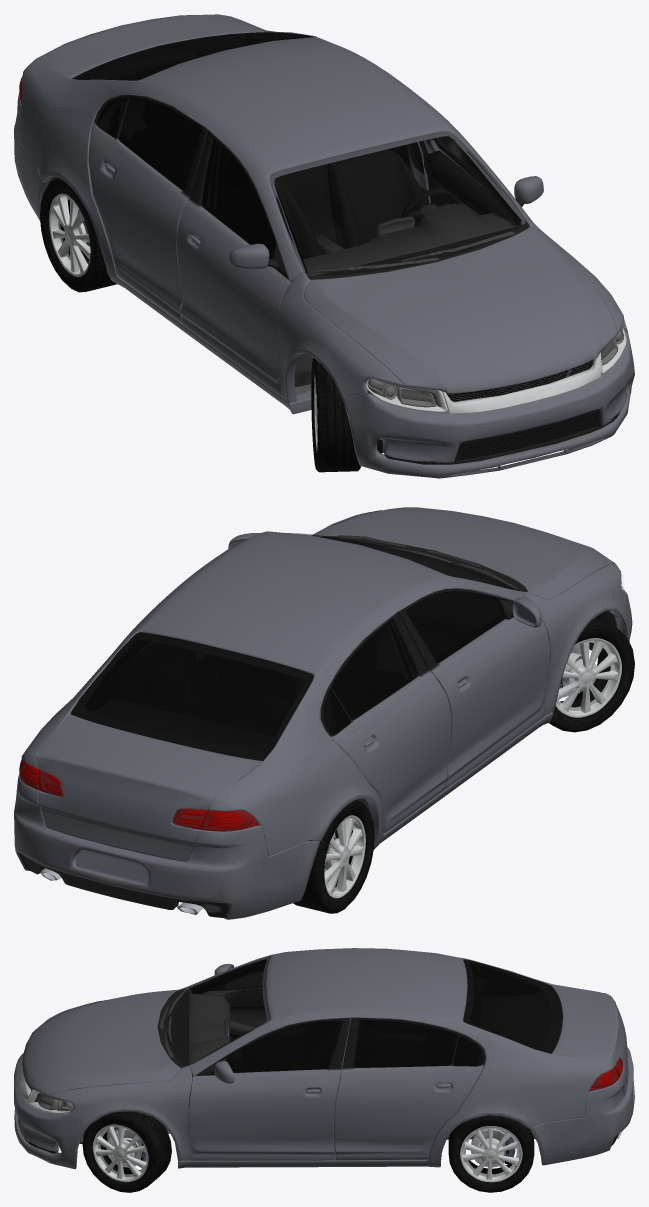
Rendered from car_drive.glb.
3 views of the same model, one above another, from view 1: azimuth 30°, elevation 25°; view 2: azimuth 150°, elevation 25°; view 3: azimuth 270°, elevation 25° (orthographic). The views are drawn at different scales.
Parts seen in each view (by area): view 1: sedan-unibody_65, hood_60, windshield_102, bumper-front_8, door-front-r_17, door-rear-r_23, fender-front-r_33, front-seat-backrest_39, dashboard_13, trunk_99, door-rear-window-glass-r_27, door-front-window-glass-r_19 (+20 smaller); view 2: sedan-unibody_65, glass-rear_42, trunk_99, bumper-rear_10, door-front-r_17, door-rear-r_23, hood_60, fender-front-r_33, door-rear-window-glass-r_27, door-front-window-glass-r_19, generic-wheel.001_126, generic-tire-low.001_125 (+8 smaller); view 3: sedan-unibody_65, door-front-l_16, door-rear-l_22, hood_60, windshield_102, glass-rear_42, fender-front-l_32, bumper-rear_10, trunk_99, door-rear-window-glass-l_26, door-front-window-glass-l_18, bumper-front_8 (+14 smaller).
Boxes of the visible parts, bbox=[...] form: sedan-unibody_65: bbox=[19, 14, 533, 414]; hood_60: bbox=[304, 226, 617, 393]; windshield_102: bbox=[270, 131, 526, 275]; bumper-front_8: bbox=[342, 328, 634, 478]; door-front-r_17: bbox=[177, 130, 291, 395]; door-rear-r_23: bbox=[88, 94, 208, 322]; fender-front-r_33: bbox=[278, 272, 403, 403]; front-seat-backrest_39: bbox=[327, 149, 428, 248]; dashboard_13: bbox=[303, 203, 520, 275]; trunk_99: bbox=[39, 14, 263, 78]; door-rear-window-glass-r_27: bbox=[118, 97, 201, 190]; door-front-window-glass-r_19: bbox=[201, 138, 276, 258]; sedan-unibody_65: bbox=[20, 531, 553, 855]; glass-rear_42: bbox=[70, 632, 313, 760]; trunk_99: bbox=[37, 714, 262, 861]; bumper-rear_10: bbox=[14, 773, 319, 919]; door-front-r_17: bbox=[398, 589, 550, 788]; door-rear-r_23: bbox=[320, 612, 451, 833]; hood_60: bbox=[311, 507, 614, 599]; fender-front-r_33: bbox=[525, 563, 624, 717]; door-rear-window-glass-r_27: bbox=[331, 619, 418, 720]; door-front-window-glass-r_19: bbox=[406, 592, 504, 663]; generic-wheel.001_126: bbox=[555, 638, 621, 717]; generic-tire-low.001_125: bbox=[549, 616, 634, 732]; sedan-unibody_65: bbox=[178, 948, 620, 1168]; door-front-l_16: bbox=[188, 1017, 350, 1160]; door-rear-l_22: bbox=[334, 1017, 485, 1160]; hood_60: bbox=[22, 989, 180, 1096]; windshield_102: bbox=[166, 957, 269, 1066]; glass-rear_42: bbox=[463, 959, 562, 1053]; fender-front-l_32: bbox=[49, 1065, 192, 1160]; bumper-rear_10: bbox=[529, 1047, 634, 1165]; trunk_99: bbox=[551, 985, 628, 1096]; door-rear-window-glass-l_26: bbox=[353, 1019, 457, 1067]; door-front-window-glass-l_18: bbox=[226, 1021, 342, 1072]; bumper-front_8: bbox=[14, 1053, 89, 1169].
Bounding box in the file's own units: 2.16 × 1.5 × 4.97.
Materials: 23 (11 with a texture image).
